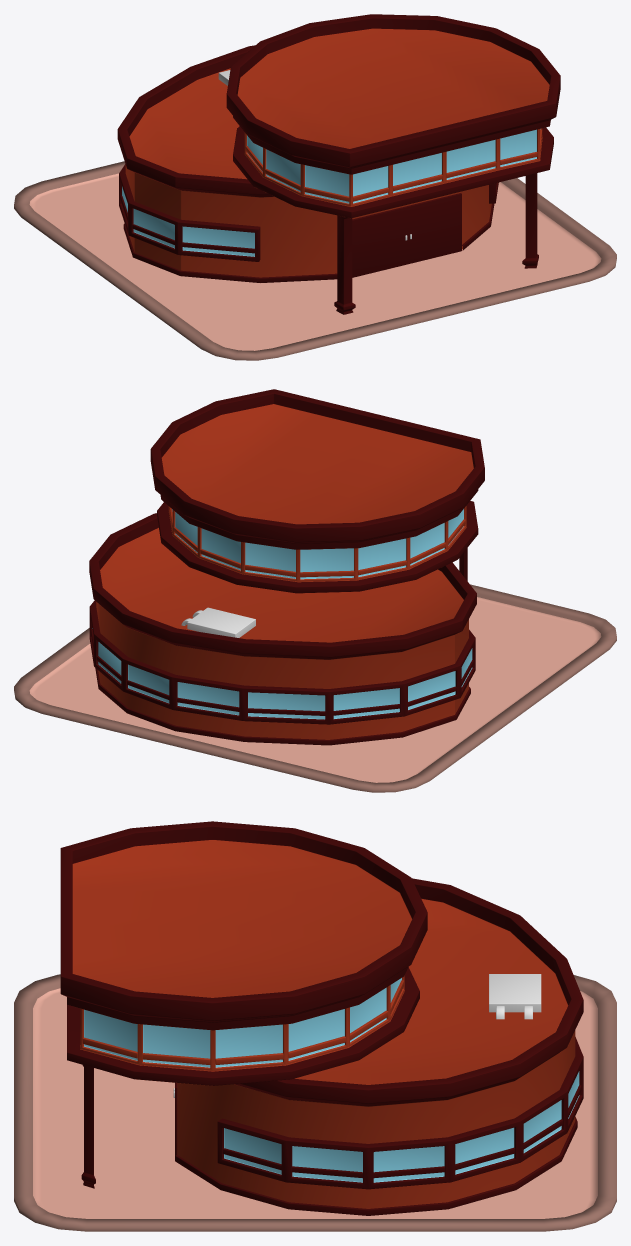
The model's file is Art_Level_01.fbx.
3 views of the same model, one above another, from view 1: azimuth 30°, elevation 25°; view 2: azimuth 150°, elevation 25°; view 3: azimuth 270°, elevation 25° (orthographic). The views are drawn at different scales.
Visible parts, largest first — view 1: Cube, Plane.007; view 2: Cube, Plane.007; view 3: Cube, Plane.007.
Part boxes in pixels (x1=…): Cube: x1=117, y1=14, x2=560, y2=314; Plane.007: x1=14, y1=161, x2=616, y2=360; Cube: x1=89, y1=389, x2=484, y2=745; Plane.007: x1=14, y1=584, x2=616, y2=792; Cube: x1=60, y1=821, x2=583, y2=1215; Plane.007: x1=14, y1=974, x2=616, y2=1231.
Size of the model in its own units: 2000 by 790 by 2000.
